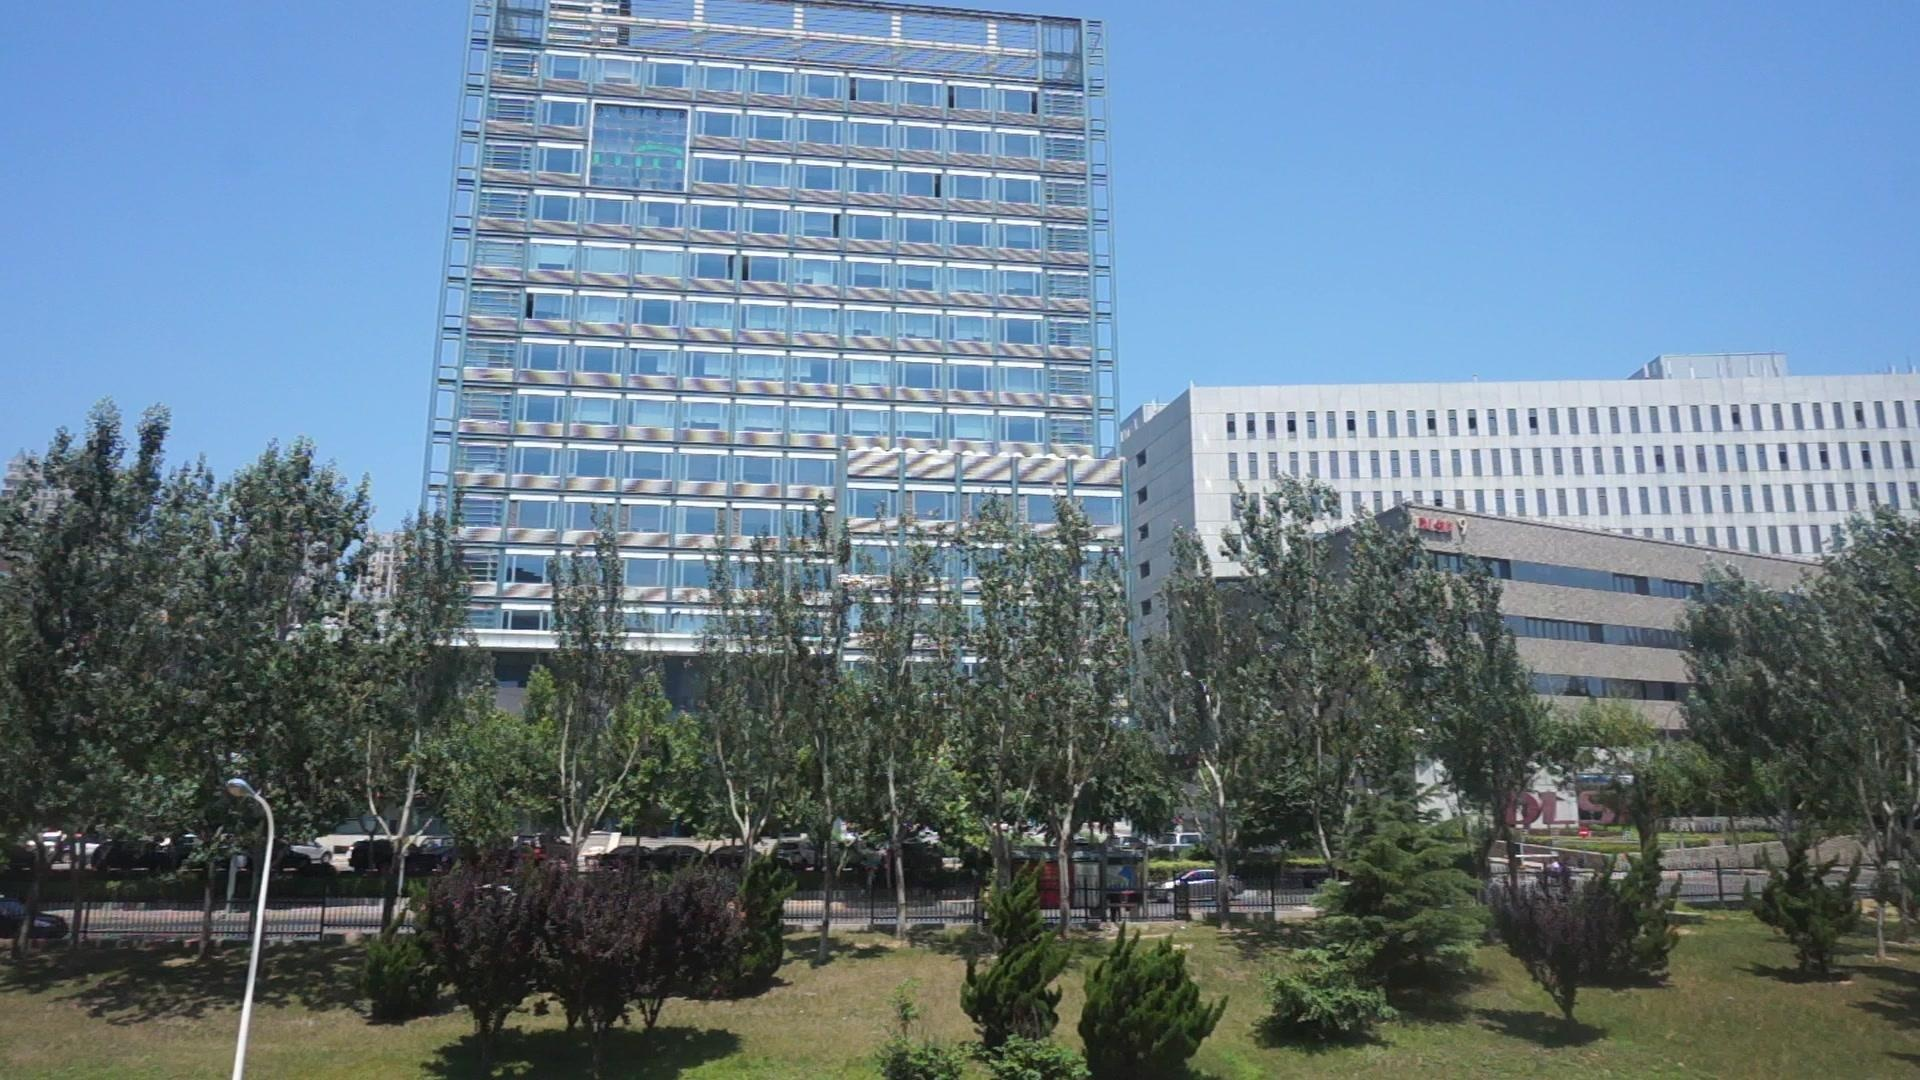UAV: (837, 574, 893, 592)
